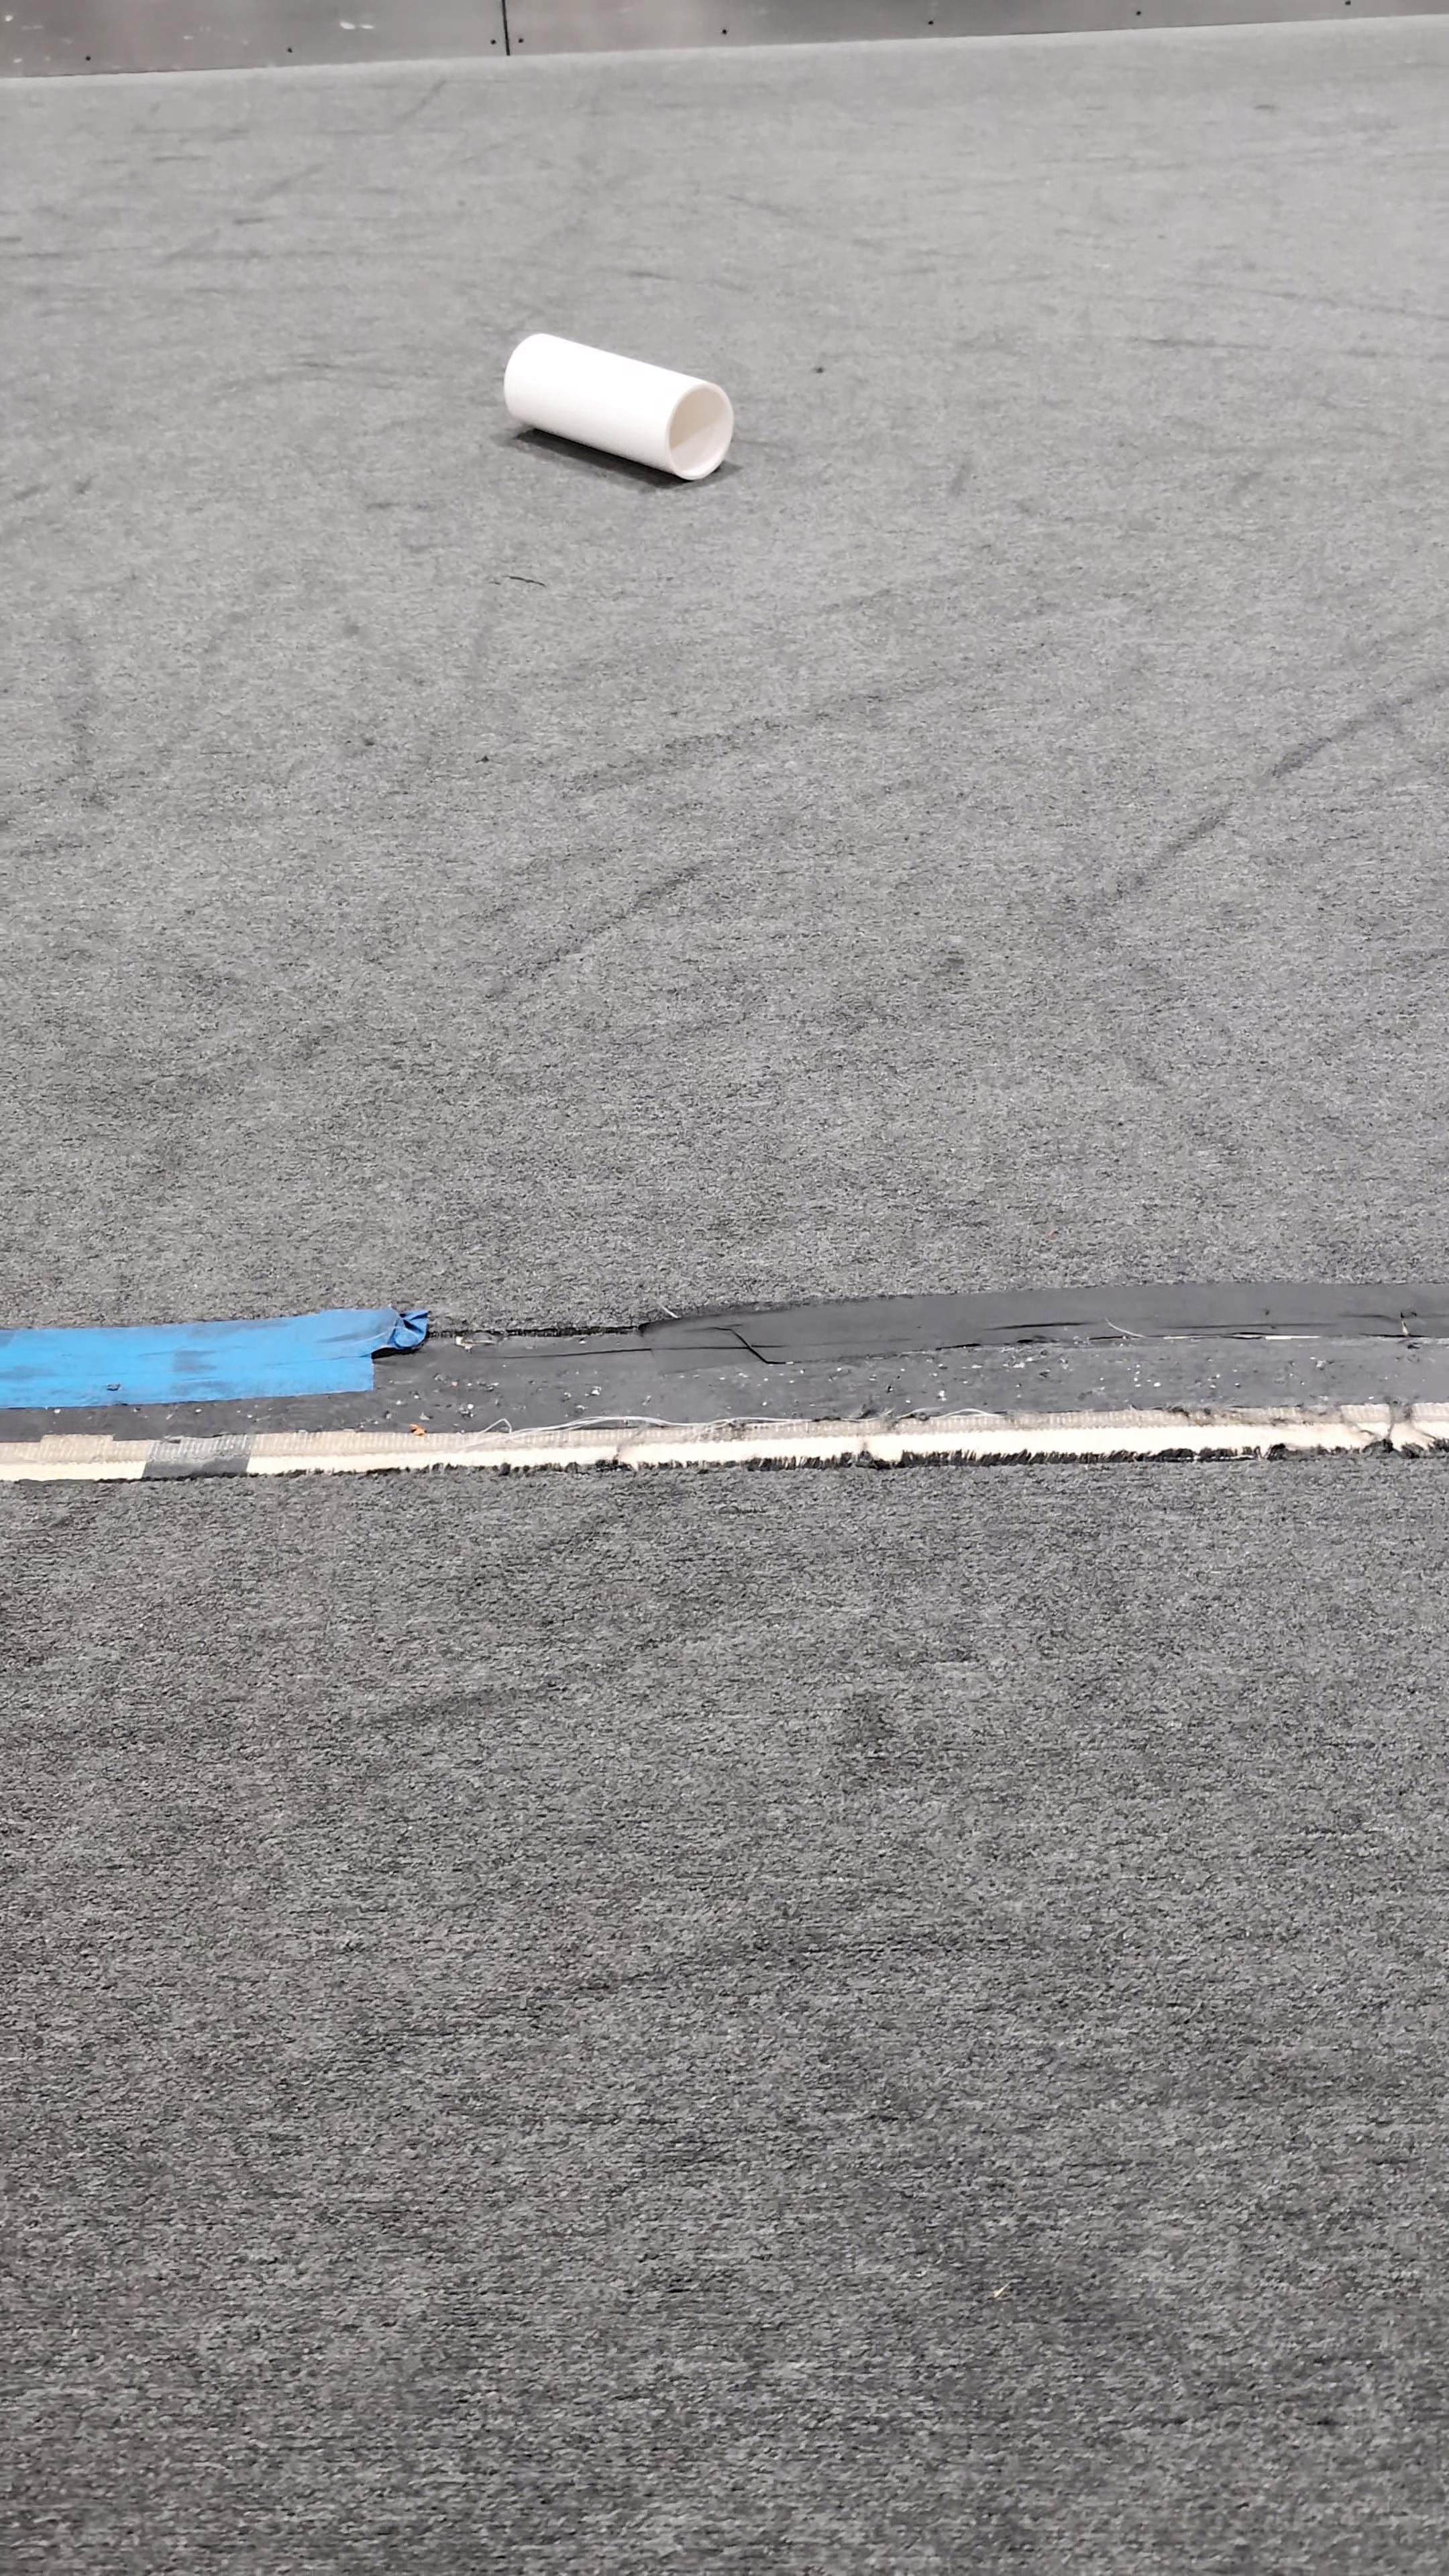coral: (499, 327, 736, 481)
